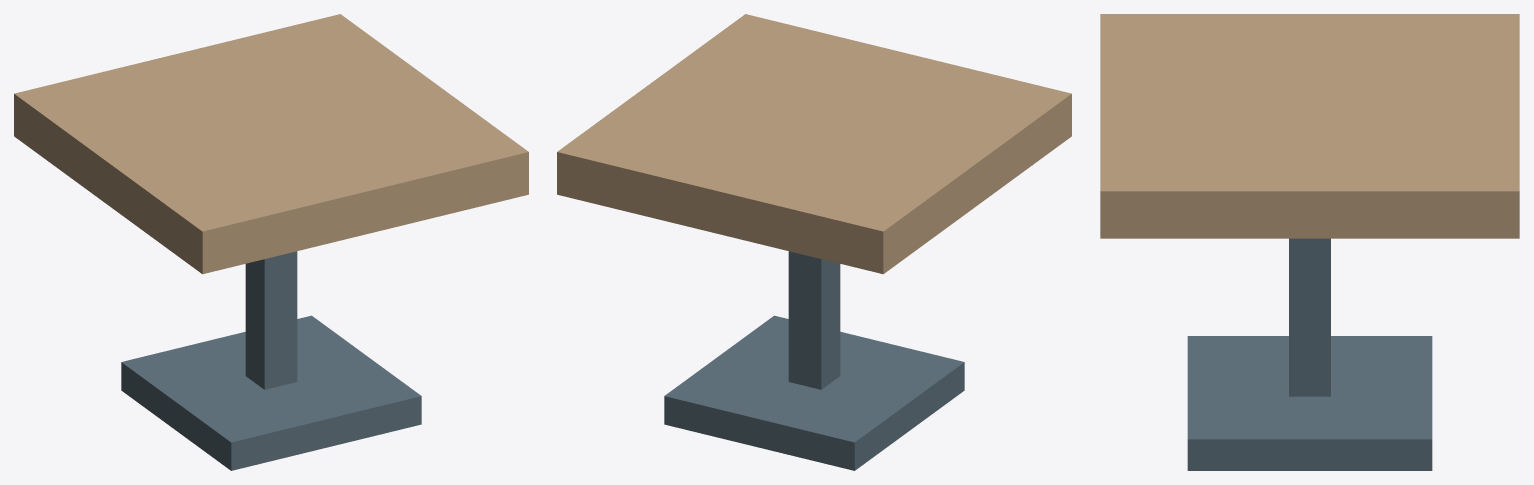
The model's file is voxel-city-districts-cafe-table-4b34729e__24885.glb.
3 views of the same model, side by side, from view 1: azimuth 30°, elevation 25°; view 2: azimuth 150°, elevation 25°; view 3: azimuth 270°, elevation 25° (orthographic). The views are drawn at different scales.
Parts seen in each view (by area): view 1: cafe-table-wood, cafe-table-dark; view 2: cafe-table-wood, cafe-table-dark; view 3: cafe-table-wood, cafe-table-dark.
Part boxes in pixels (left/top/right/bottom): cafe-table-wood: left=14, top=14, right=528, bottom=274; cafe-table-dark: left=121, top=251, right=421, bottom=470; cafe-table-wood: left=557, top=14, right=1071, bottom=274; cafe-table-dark: left=664, top=251, right=964, bottom=470; cafe-table-wood: left=1100, top=14, right=1519, bottom=238; cafe-table-dark: left=1187, top=238, right=1432, bottom=470.
Size of the model in its own units: 1.2 by 1 by 1.2.
